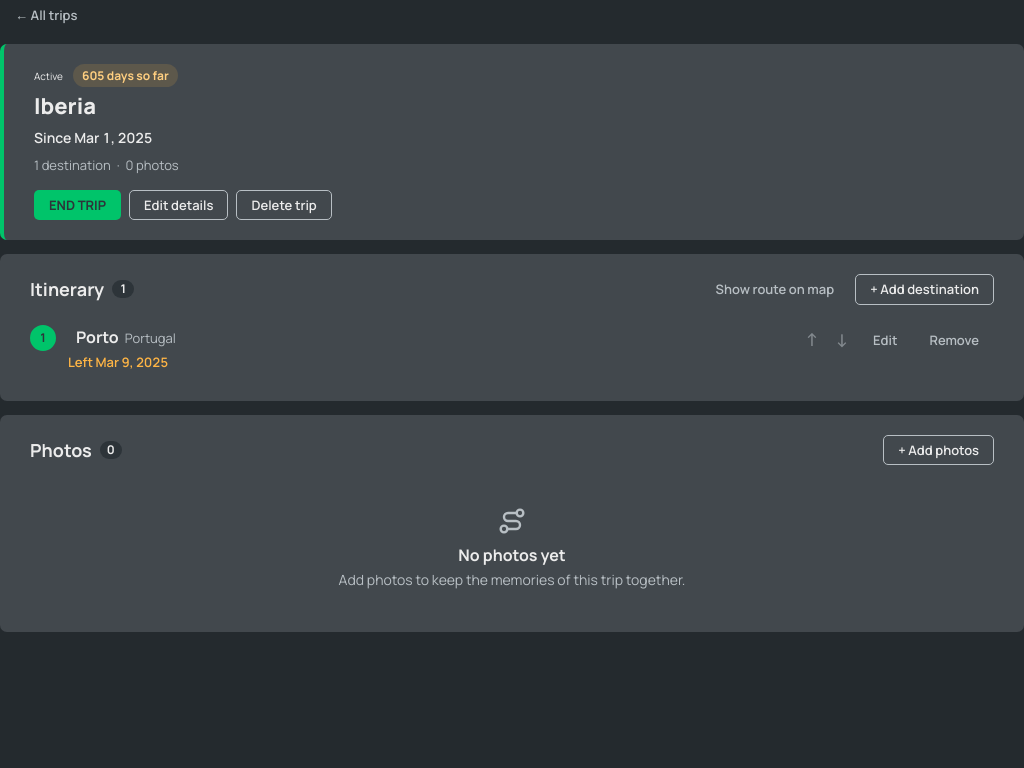
Test: End trip › rejects an end date before the start or before the last departure
Click the button "End trip" at (78, 205), box [34,190,121,220]
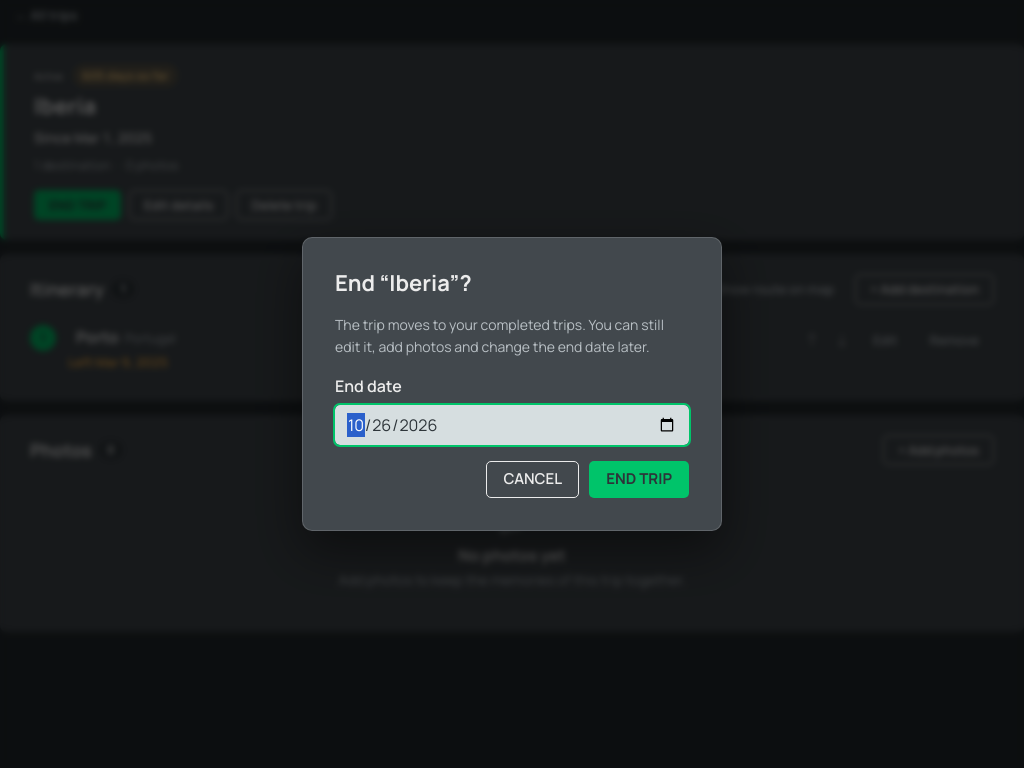
Type "2025-02-01" into the date field labelled "End date" at (512, 425), box [335,405,689,445]
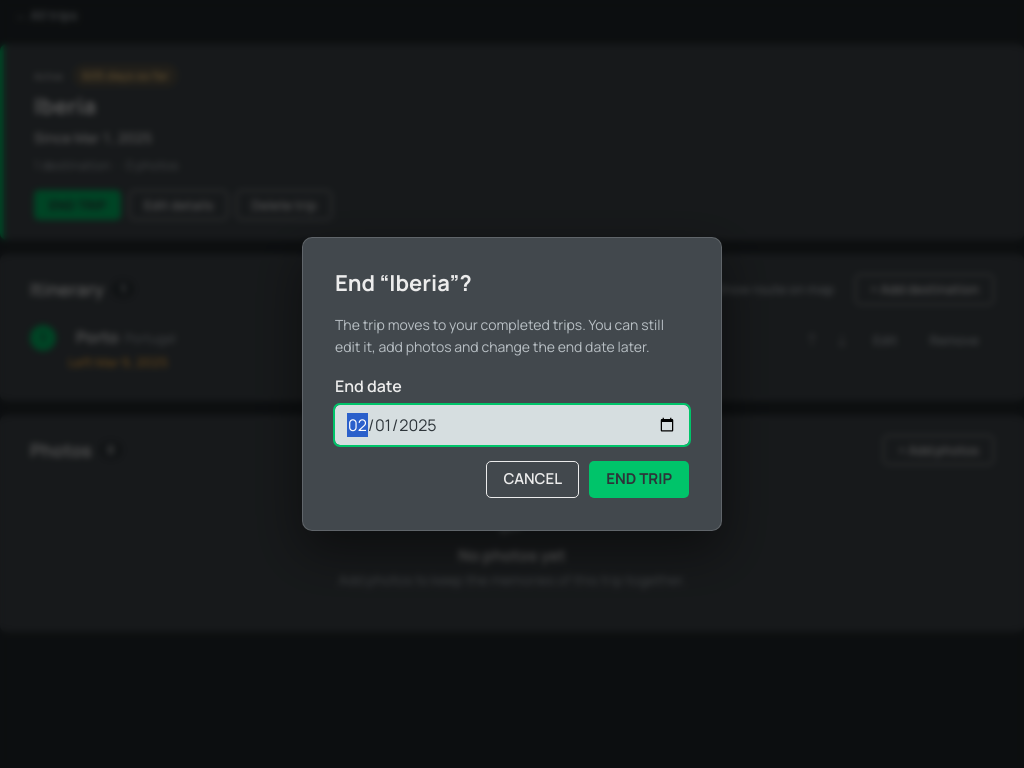
Click the button "End trip" at (639, 480), box [589,461,689,498]
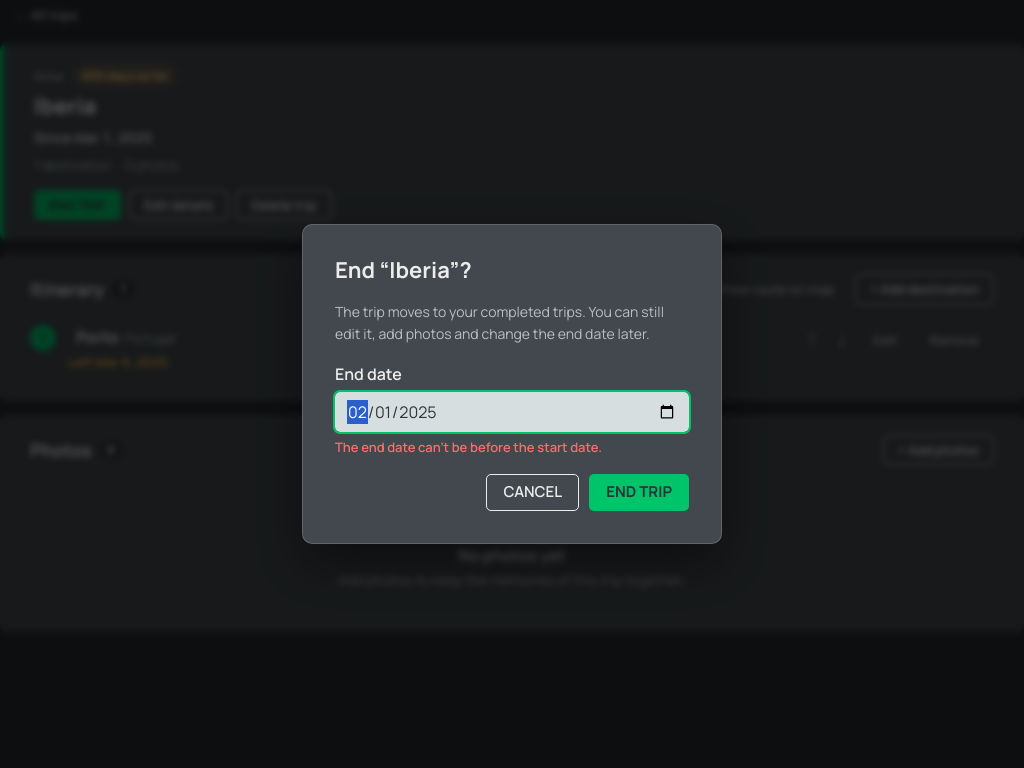
Result: the text "The end date can't be before the start date." is shown at [335,438,602,456]
Type "2025-03-08" into the date field labelled "End date" at (512, 412), box [335,392,689,432]
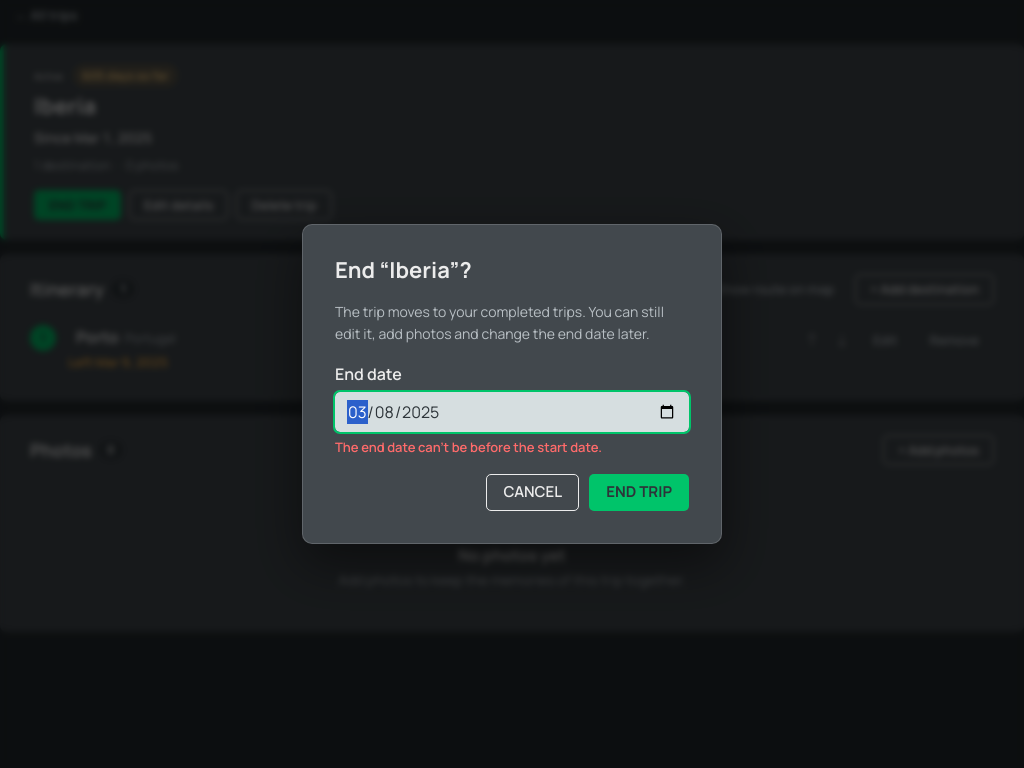
Click the button "End trip" at (639, 492), box [589,474,689,511]
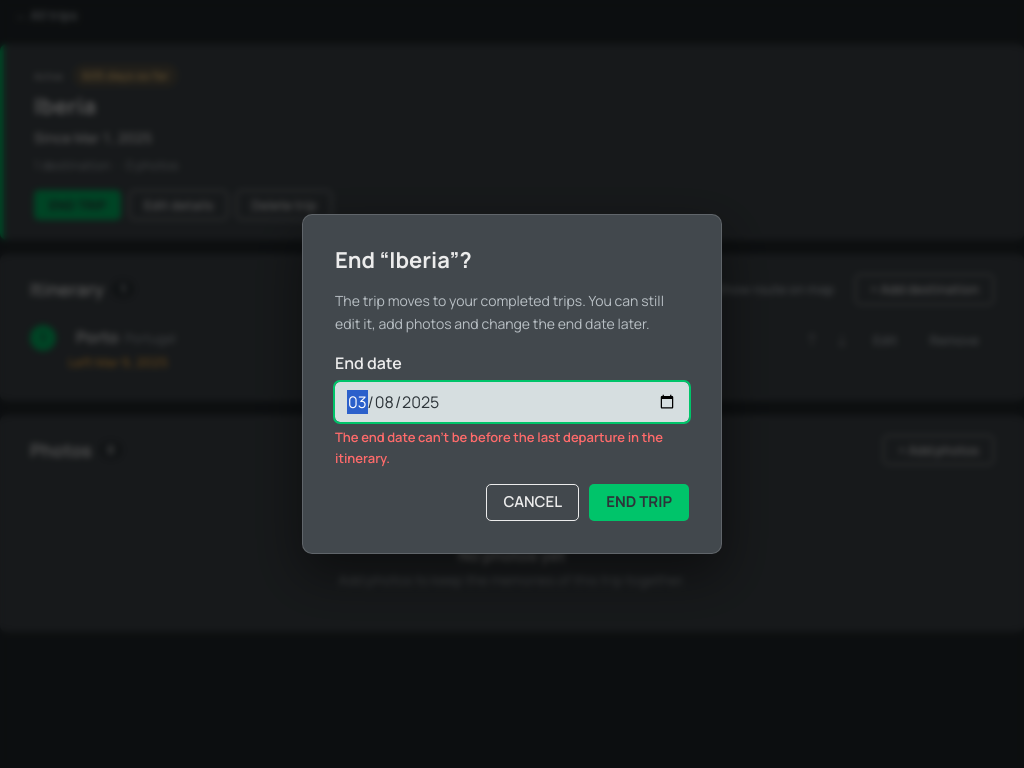
Result: the text "The end date can't be before the last departure in the itinerary." is shown at [335,427,689,468]
